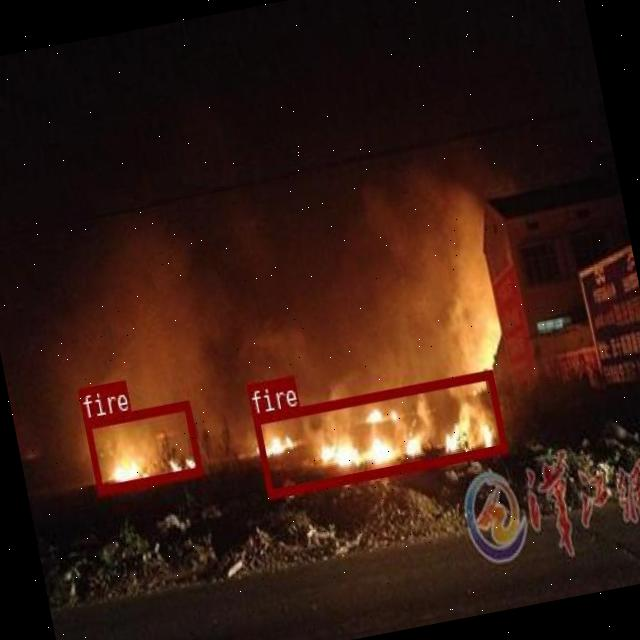fire: (250, 368, 508, 498), (84, 399, 202, 494)
